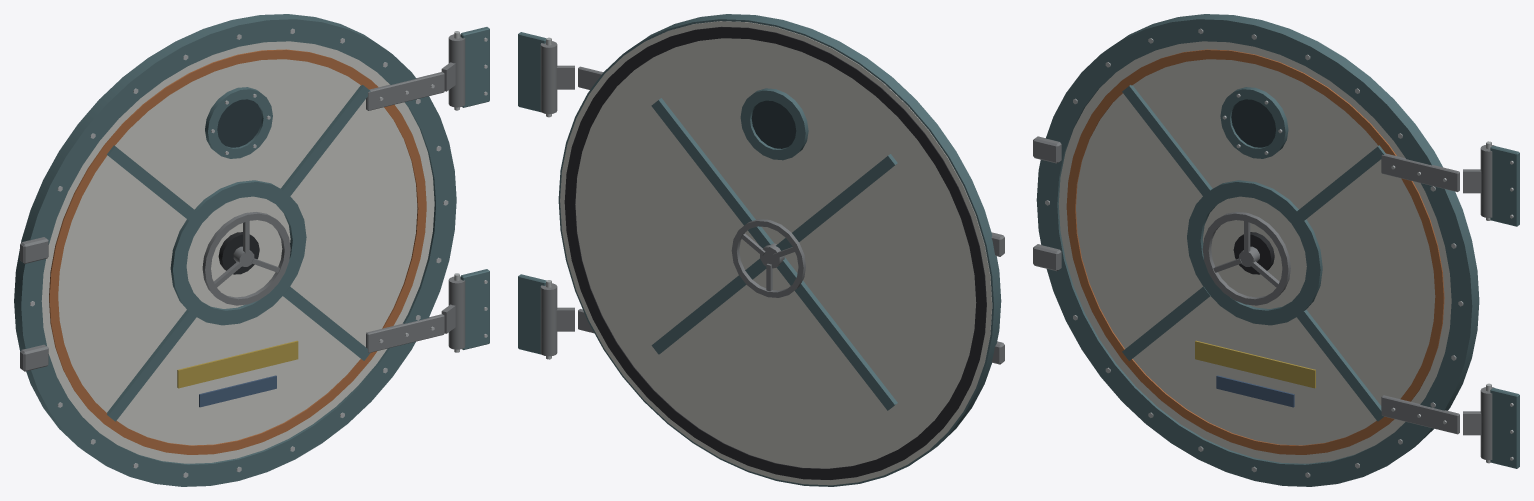
The model's file is astro_outer_hatch.fbx.
3 views of the same model, side by side, from view 1: azimuth 30°, elevation 25°; view 2: azimuth 150°, elevation 25°; view 3: azimuth 330°, elevation 25° (orthographic).
Visible parts, largest first — view 1: OuterHatch_Door, OuterHatch_HingeMount; view 2: OuterHatch_Door, OuterHatch_HingeMount; view 3: OuterHatch_Door, OuterHatch_HingeMount.
Part boxes in pixels (bbox=[...]): OuterHatch_Door: bbox=[14, 14, 465, 486]; OuterHatch_HingeMount: bbox=[448, 27, 489, 352]; OuterHatch_Door: bbox=[540, 14, 1004, 486]; OuterHatch_HingeMount: bbox=[518, 32, 557, 359]; OuterHatch_Door: bbox=[1033, 14, 1492, 486]; OuterHatch_HingeMount: bbox=[1480, 141, 1519, 468].
Size of the model in its own units: 555 by 508 by 50.
